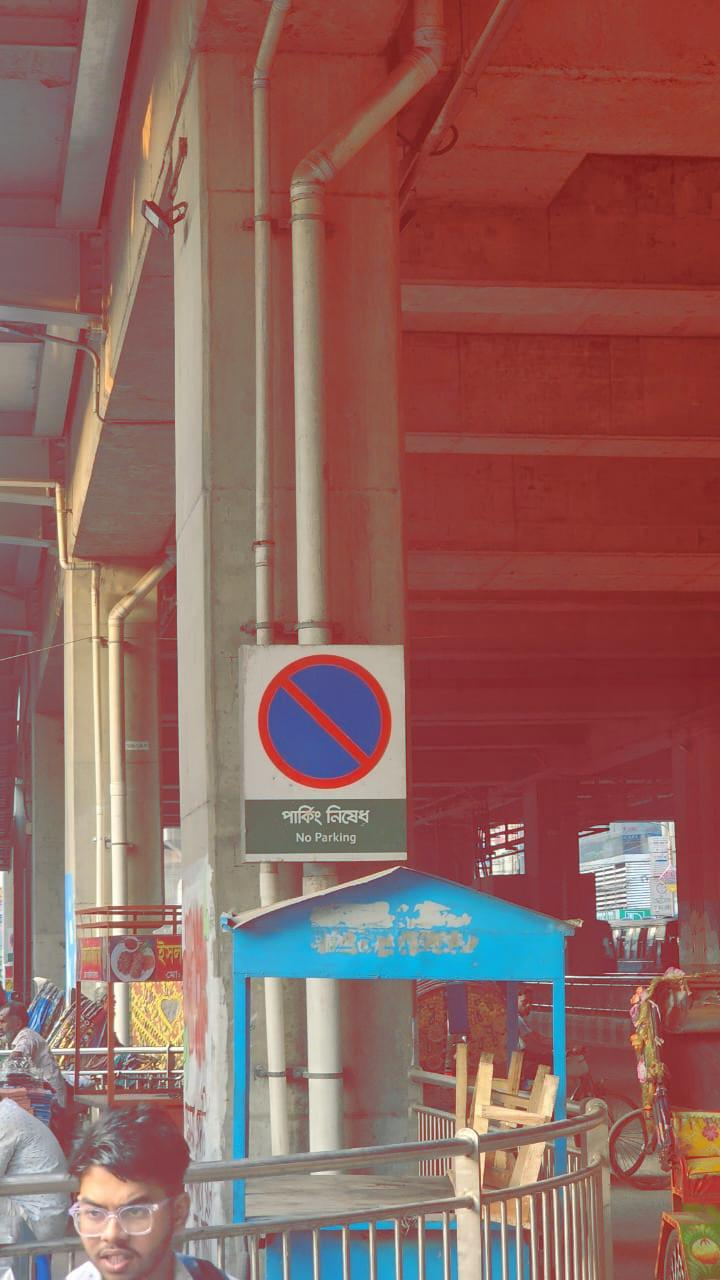No Parking: (241, 644, 411, 870)
